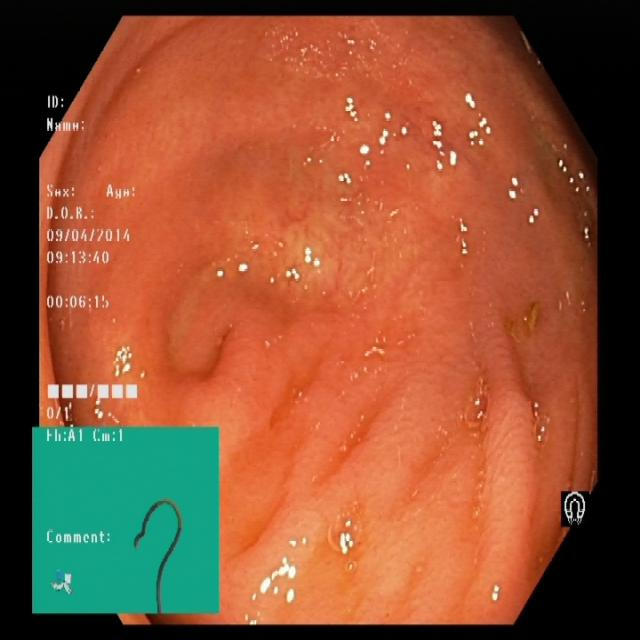normal-cecum: (183, 139, 456, 318), (299, 507, 385, 590), (510, 269, 562, 348)
